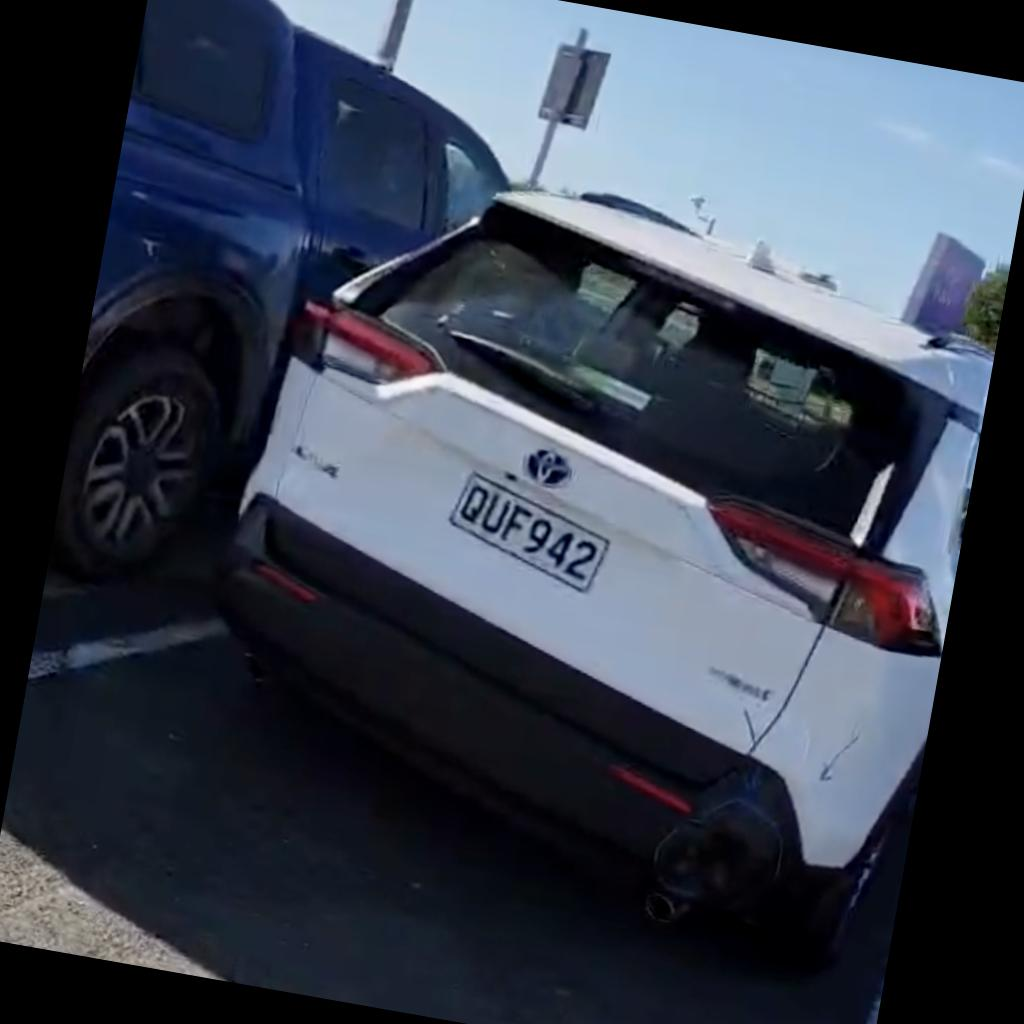Number-Plates: (425, 463, 624, 612)
